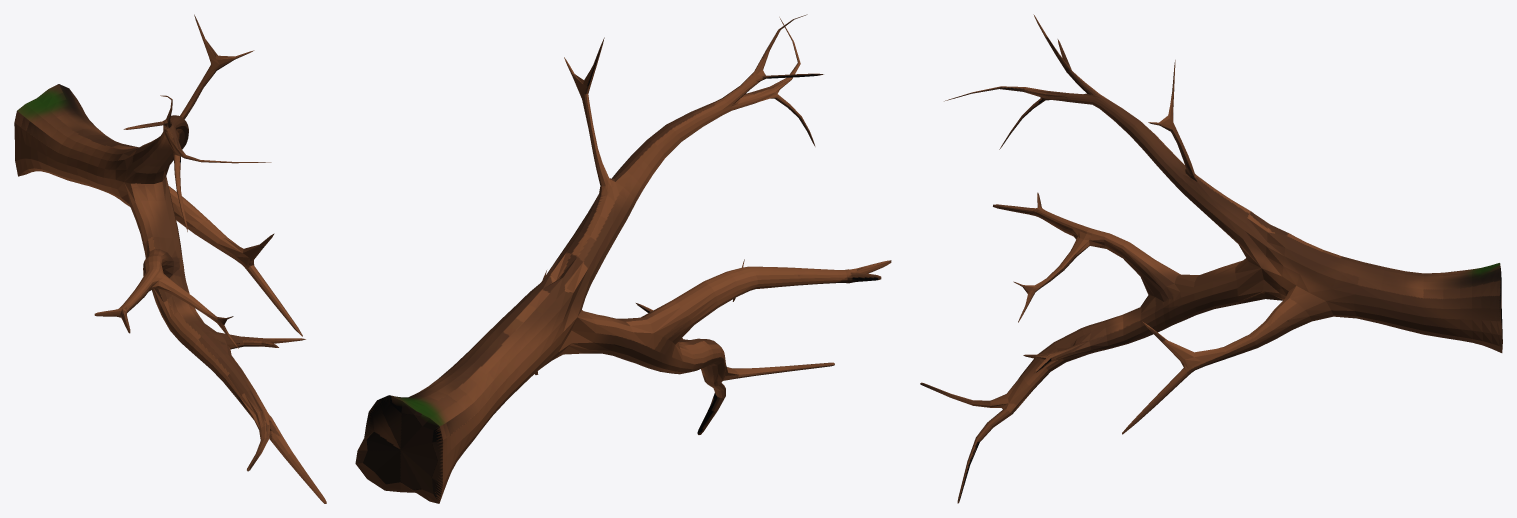
Rendered from tree.obj.
3 renders of one model, left to right at view 1: azimuth 30°, elevation 25°; view 2: azimuth 150°, elevation 25°; view 3: azimuth 270°, elevation 25°, orthographic. The views are drawn at different scales.
Visible parts, largest first — view 1: Cylinder; view 2: Cylinder; view 3: Cylinder.
Part boxes in pixels (x1,y1,x2,y2): Cylinder: (14,14,326,503); Cylinder: (355,14,891,503); Cylinder: (920,14,1502,503).
Size of the model in its own units: 92.66 by 149 by 182.
Materials: 1 (1 with a texture image).
